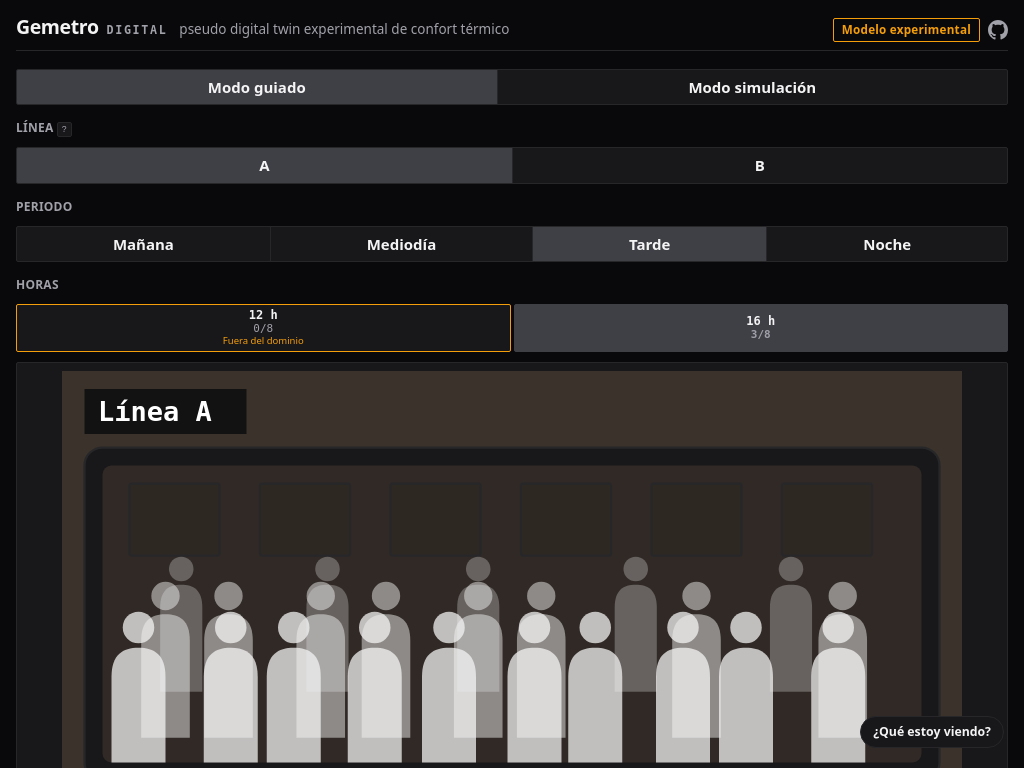
Scenario: the custom-configuration flag appears only once a non-hour value changes
The image size is (1024, 768).
Expected: the element named "Modo del simulador" is shown, [16, 68, 1008, 105]
Click the button "Modo simulación" at (752, 87), box [498, 70, 1007, 104]
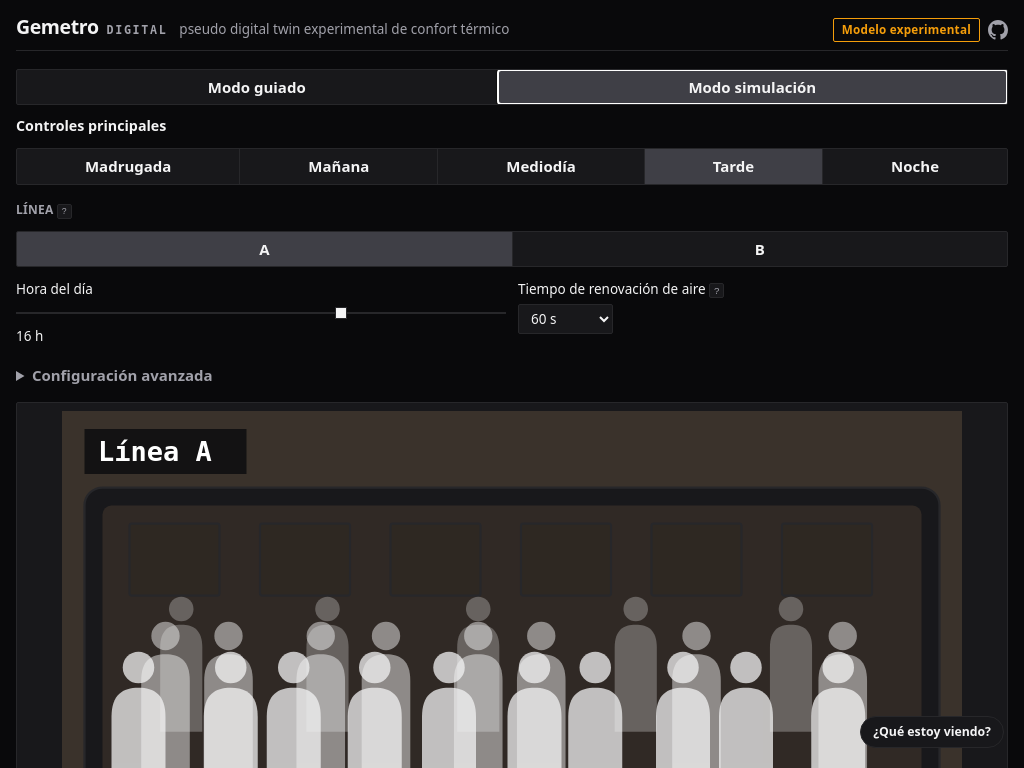
Expected: the text "Configuración personalizada" is not shown
Click the heading "Configuración avanzada" at (122, 375), box [32, 365, 213, 385]
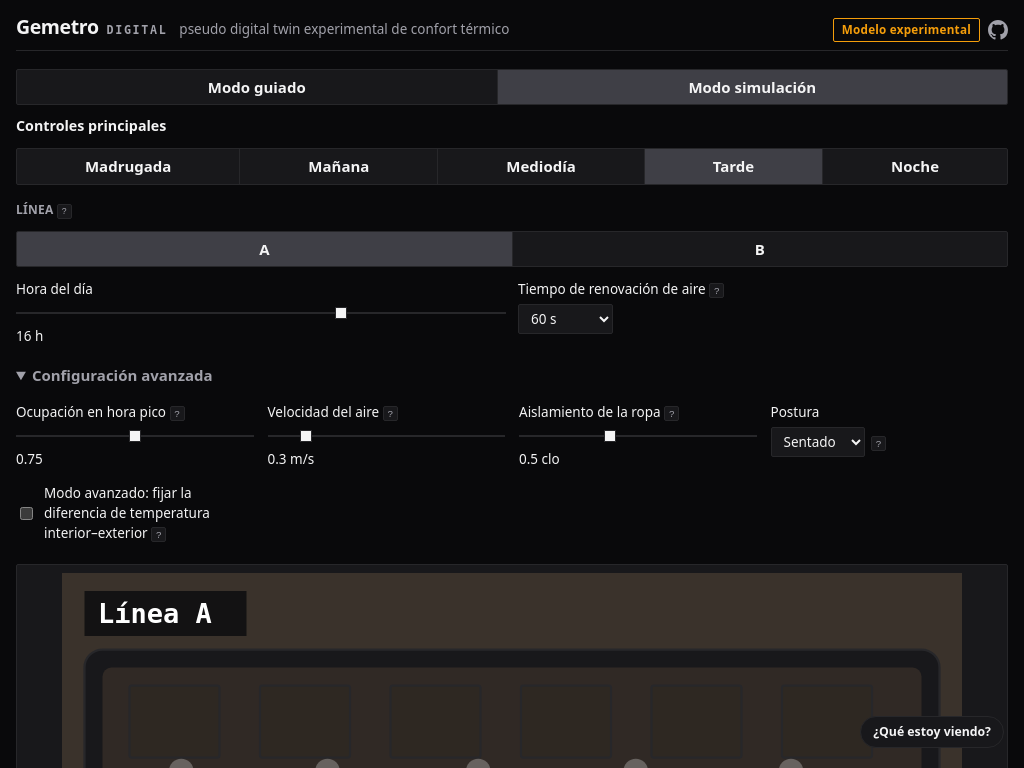
Select "De pie" in the dropdown labelled "Postura ?" at (818, 442), box [770, 427, 865, 457]
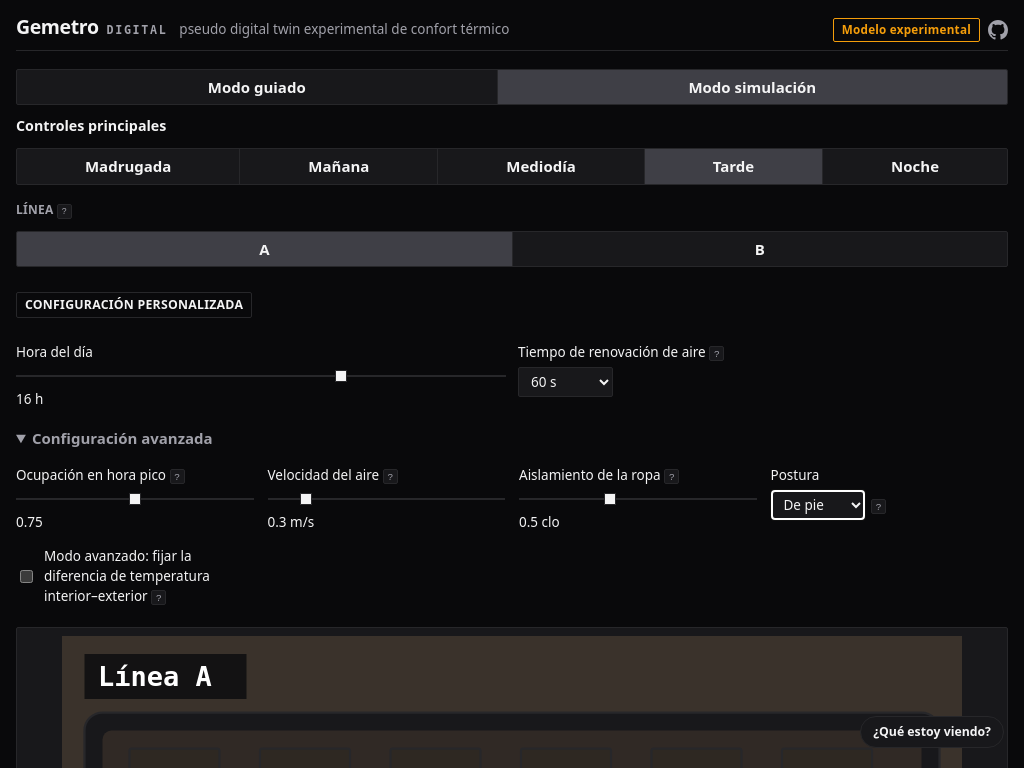
Expected: the text "Configuración personalizada" is shown, [16, 292, 252, 318]
